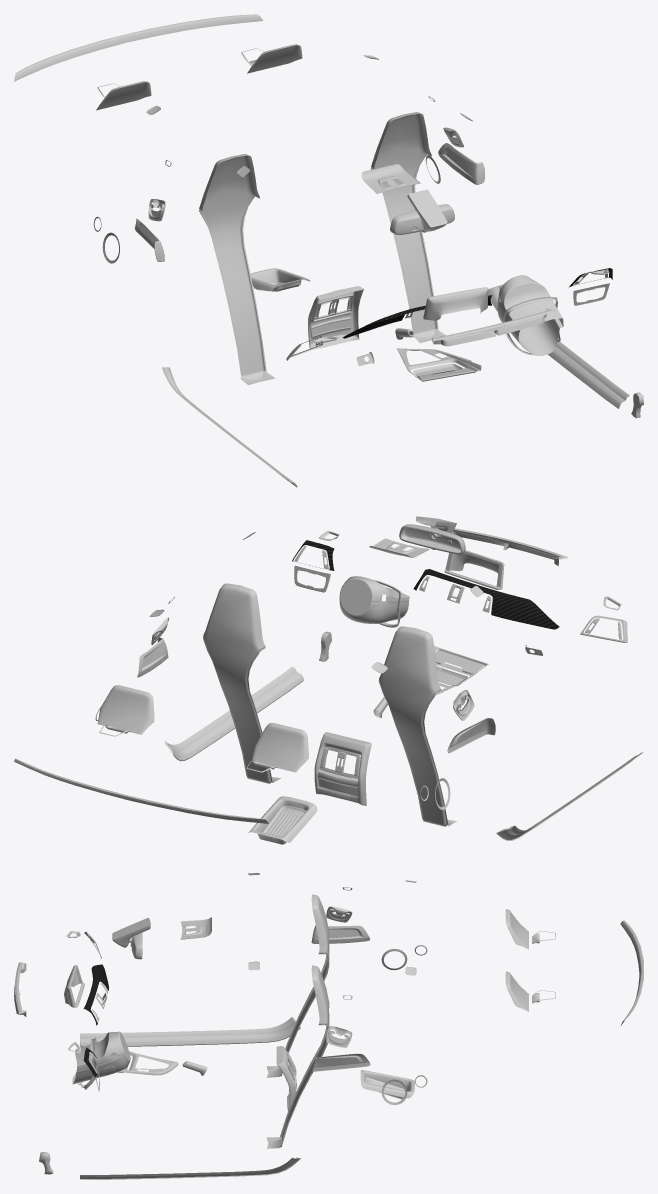
The model's file is DashCarbon.fbx.
3 renders of one model, top to bottom at view 1: azimuth 30°, elevation 25°; view 2: azimuth 150°, elevation 25°; view 3: azimuth 270°, elevation 25°, orthographic. The views are drawn at different scales.
Visible parts, largest first — view 1: GEO_Cockpit_HR_SUB2, PLASTIC_BOTTOM, DASHBOARD_CARBON; view 2: GEO_Cockpit_HR_SUB2, DASHBOARD_CARBON, PLASTIC_BOTTOM; view 3: GEO_Cockpit_HR_SUB2, DASHBOARD_CARBON, PLASTIC_BOTTOM.
Boxes of the visible parts, <box> form: GEO_Cockpit_HR_SUB2: <box>14,14,643,487</box>; PLASTIC_BOTTOM: <box>396,348,481,381</box>; DASHBOARD_CARBON: <box>343,268,612,338</box>; GEO_Cockpit_HR_SUB2: <box>14,516,643,844</box>; DASHBOARD_CARBON: <box>292,540,559,629</box>; PLASTIC_BOTTOM: <box>434,645,488,694</box>; GEO_Cockpit_HR_SUB2: <box>14,873,643,1179</box>; DASHBOARD_CARBON: <box>83,964,108,1076</box>; PLASTIC_BOTTOM: <box>117,1051,178,1075</box>.
Size of the model in its own units: 1.48 by 0.9542 by 2.77.
